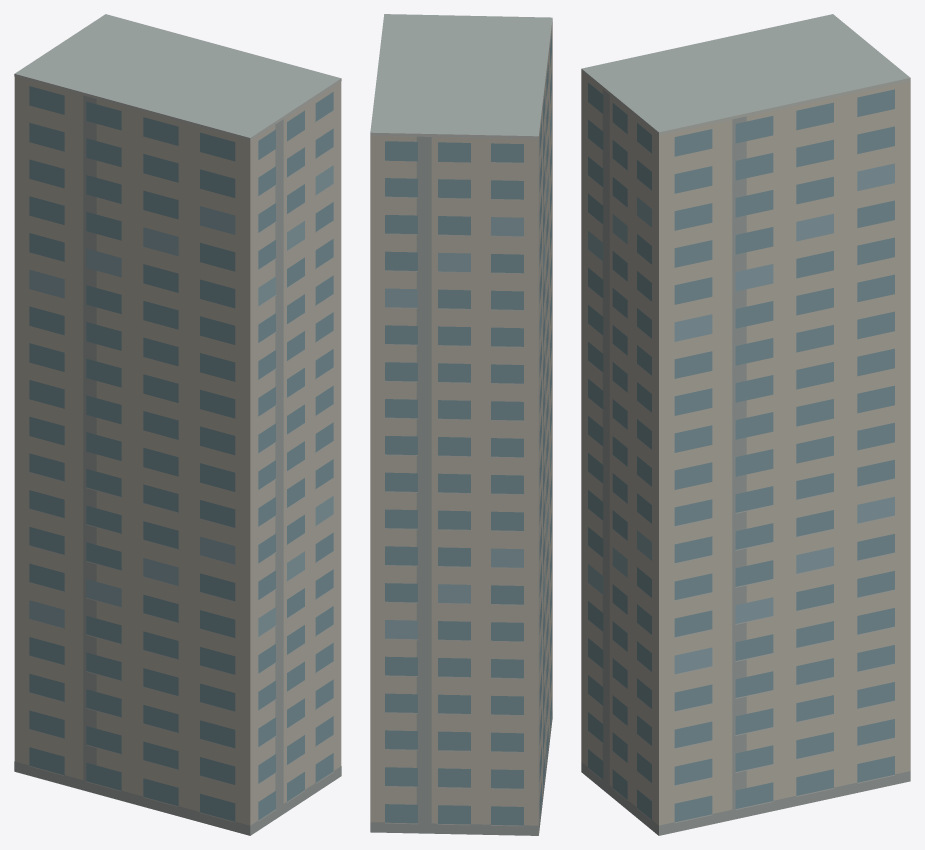
File: residential-4c6384af-7364-4511-b668-cccebb7df5e1.glb
The picture shows the model from 3 angles, left to right: view 1: azimuth 30°, elevation 25°; view 2: azimuth 150°, elevation 25°; view 3: azimuth 270°, elevation 25°; orthographic projection.
Visible parts, largest first — view 1: residential-4c6384af-7364-4511-b668-cccebb7df5e1.tmp; view 2: residential-4c6384af-7364-4511-b668-cccebb7df5e1.tmp; view 3: residential-4c6384af-7364-4511-b668-cccebb7df5e1.tmp.
Boxes of the visible parts, x1=… form: residential-4c6384af-7364-4511-b668-cccebb7df5e1.tmp: x1=14, y1=14, x2=341, y2=835; residential-4c6384af-7364-4511-b668-cccebb7df5e1.tmp: x1=370, y1=14, x2=552, y2=835; residential-4c6384af-7364-4511-b668-cccebb7df5e1.tmp: x1=581, y1=14, x2=910, y2=835.
Bounding box in the file's own units: 20.93 × 58 × 24.6.
